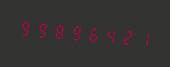eight: (51, 17, 67, 45)
four: (102, 21, 118, 49)
nine: (17, 14, 33, 42), (34, 15, 50, 43), (68, 18, 84, 46)
one: (136, 24, 152, 52)
six: (85, 20, 101, 48)
two: (119, 23, 135, 51)
